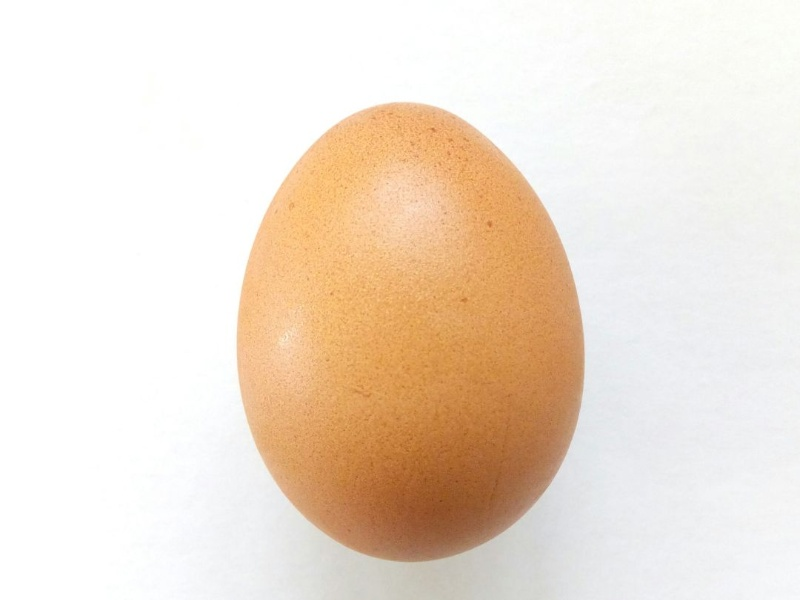Huevo: (237, 102, 585, 562)
